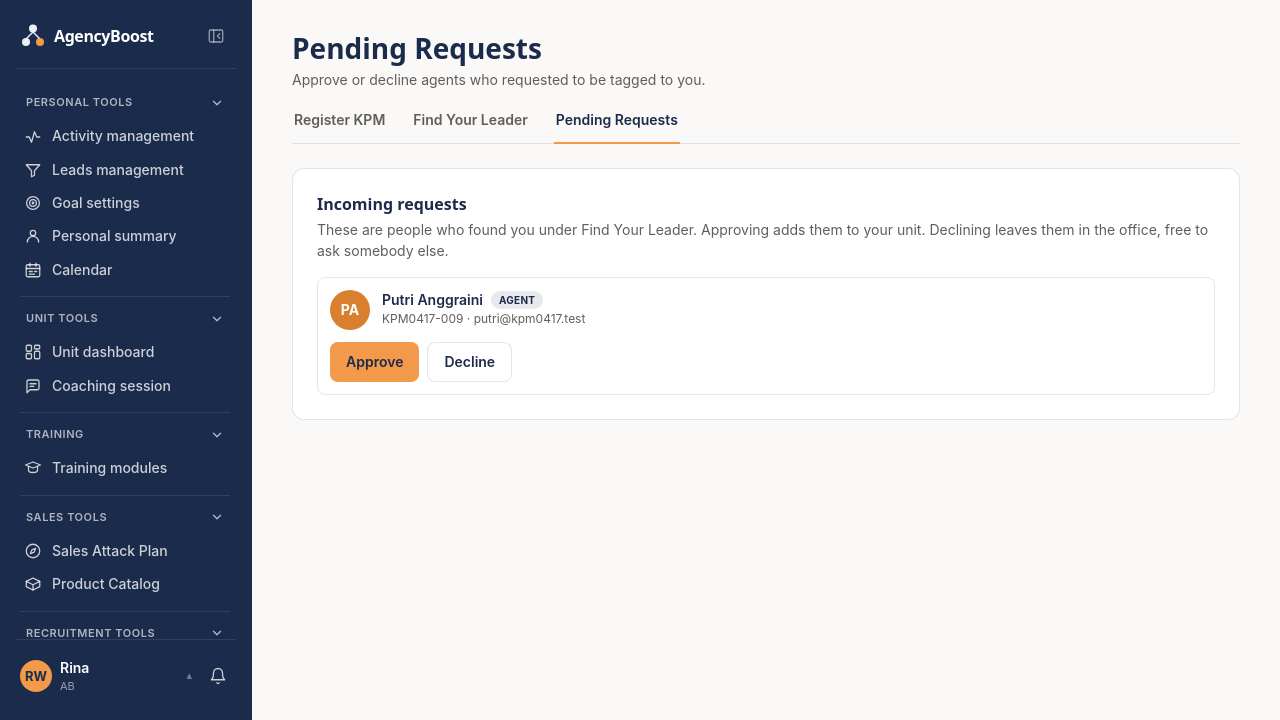
Test: the approval inbox (P3-T5) › lets you back out of declining
This screenshot has width=1280, height=720.
Click the button "Decline".
click(470, 362)  # box [427, 342, 512, 382]
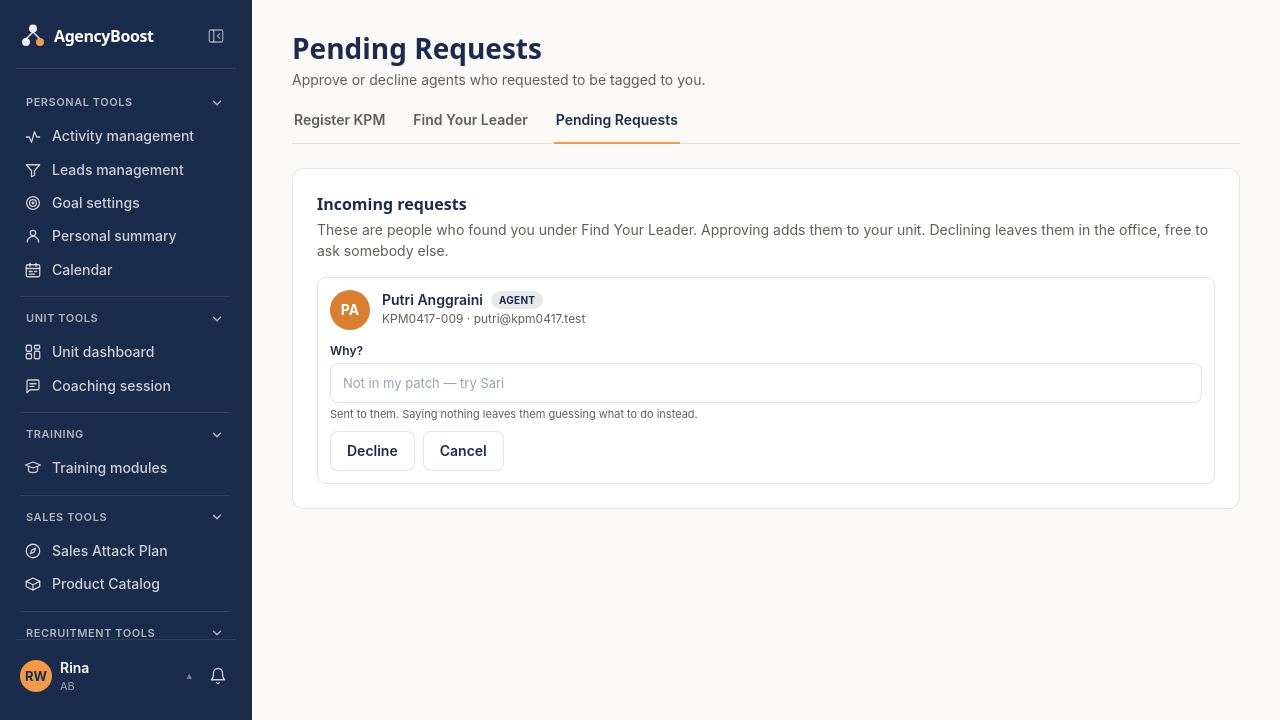
Click the button "Cancel".
click(463, 451)  # box [423, 431, 504, 471]
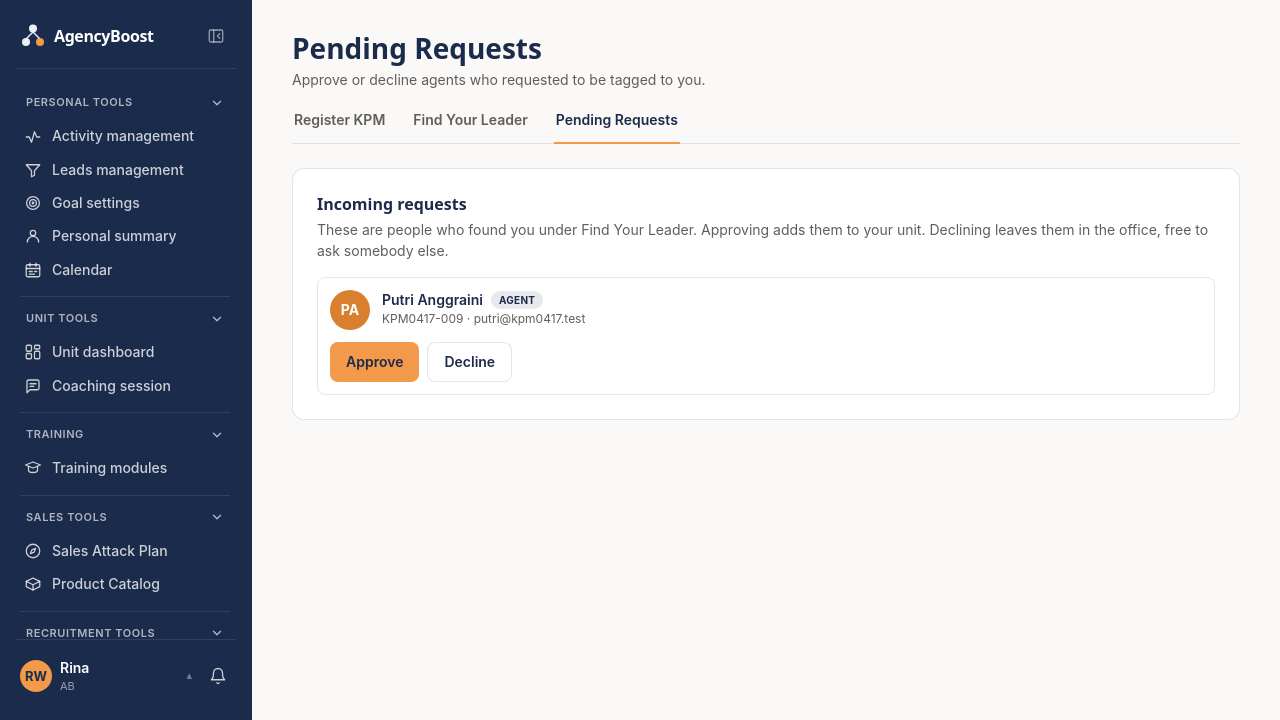
Check: the field labelled "Why?" is not shown
Check: the button "Approve" is shown, box [330, 342, 419, 382]
